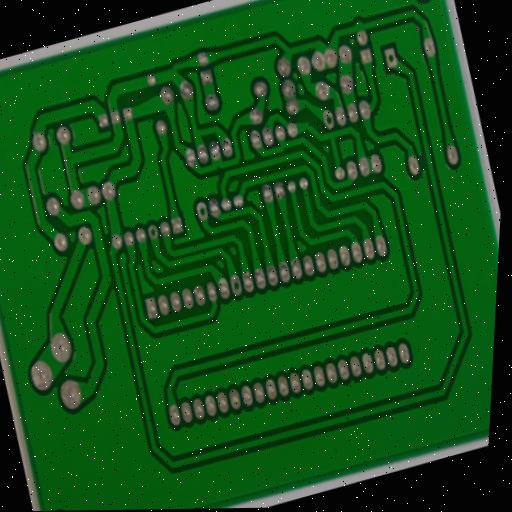missing_hole: (191, 196, 212, 224), (317, 106, 338, 132), (226, 272, 246, 298), (380, 46, 400, 71), (143, 220, 161, 243)
